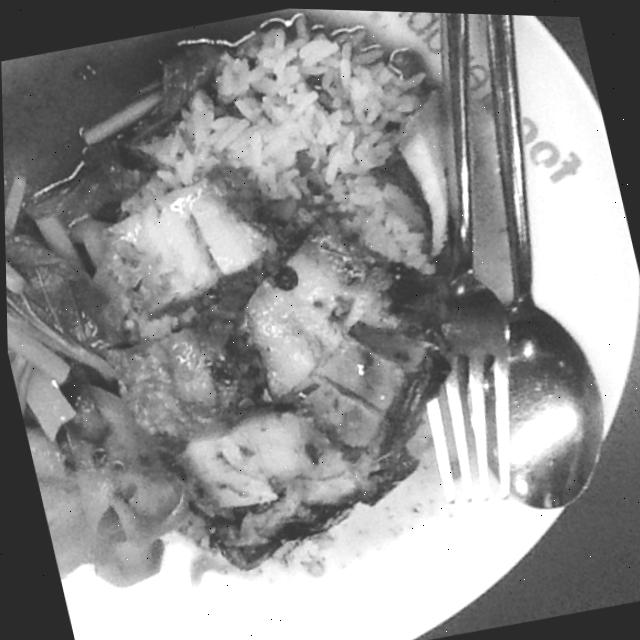米饭主食: (0, 0, 546, 619)
